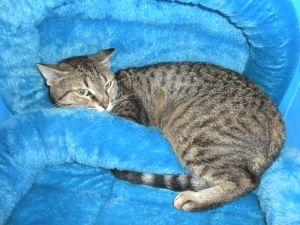bengal: (36, 42, 125, 122)
